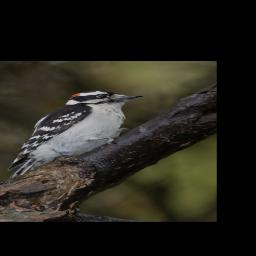Woodpecker: (8, 91, 145, 181)
